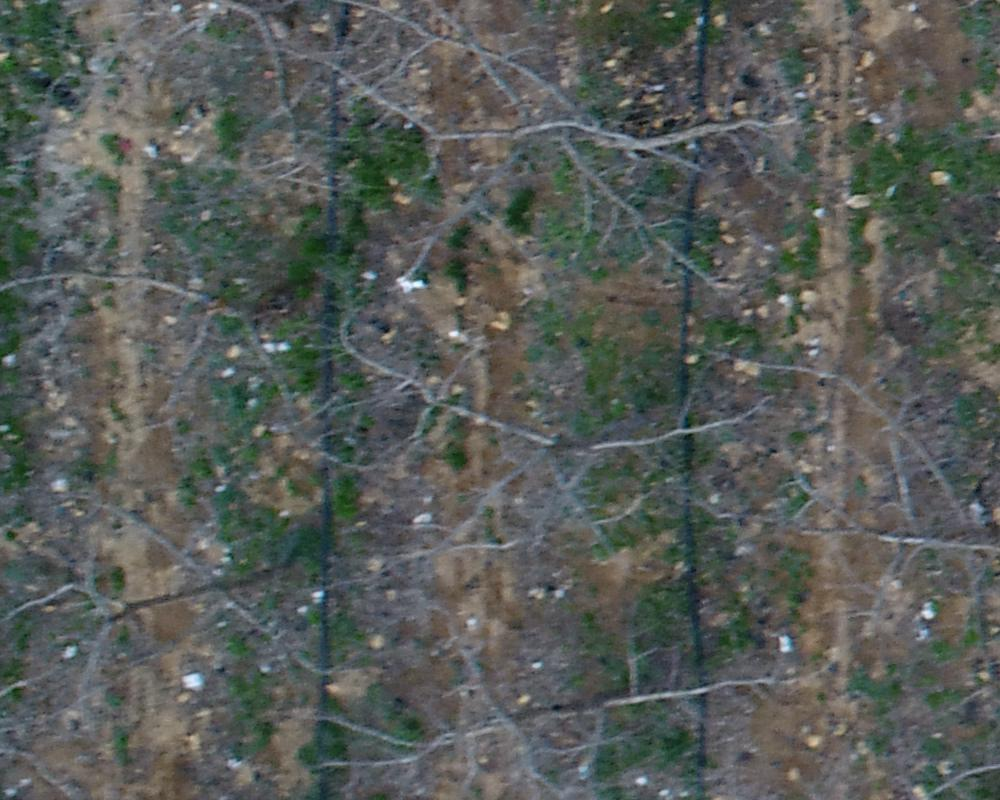apple: (314, 10, 802, 310), (331, 310, 776, 584), (308, 586, 799, 790), (701, 333, 990, 658), (13, 248, 381, 495), (13, 486, 316, 737), (78, 10, 387, 189)
